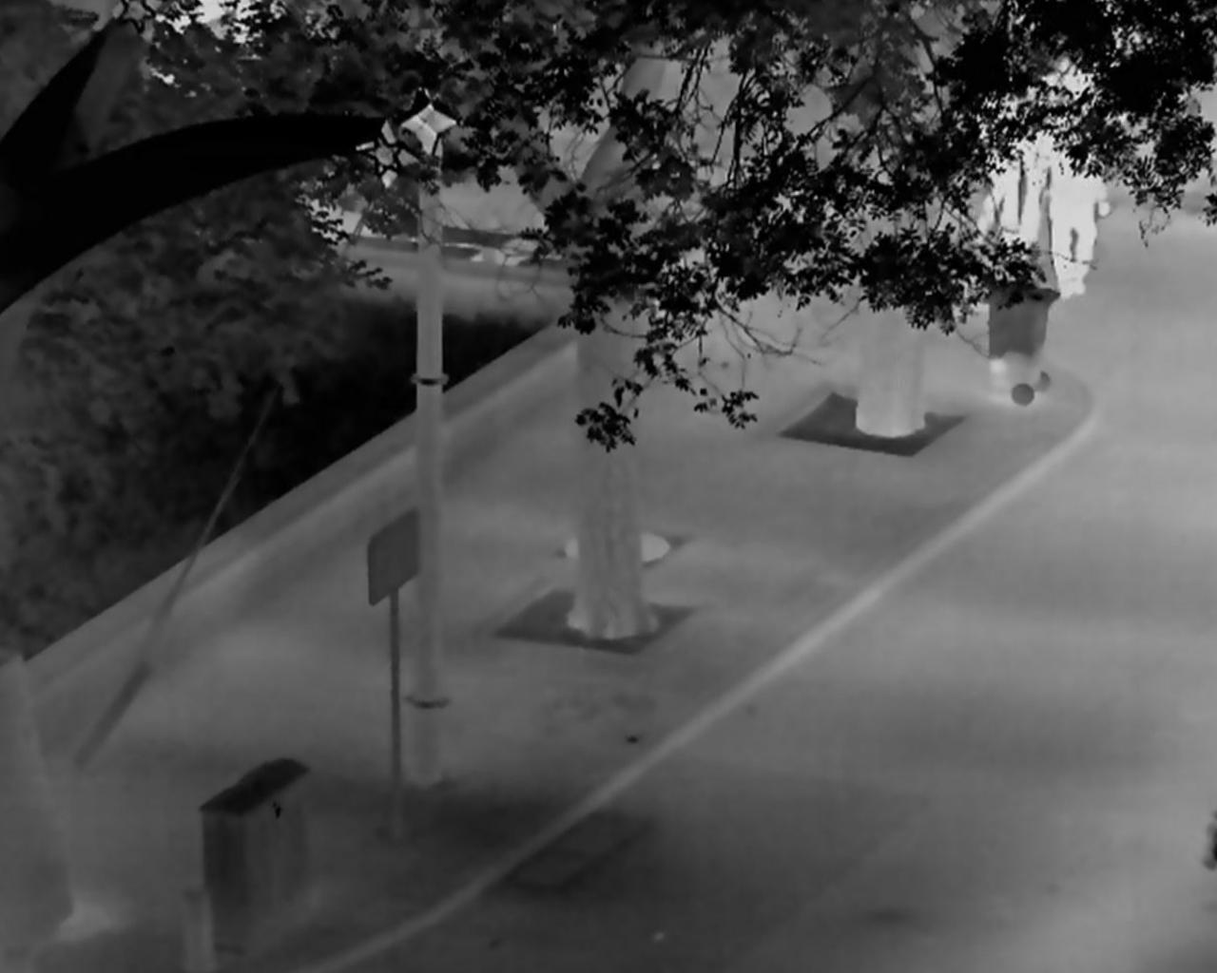person: (1049, 131, 1107, 296), (968, 112, 1018, 258), (1018, 113, 1055, 255)
